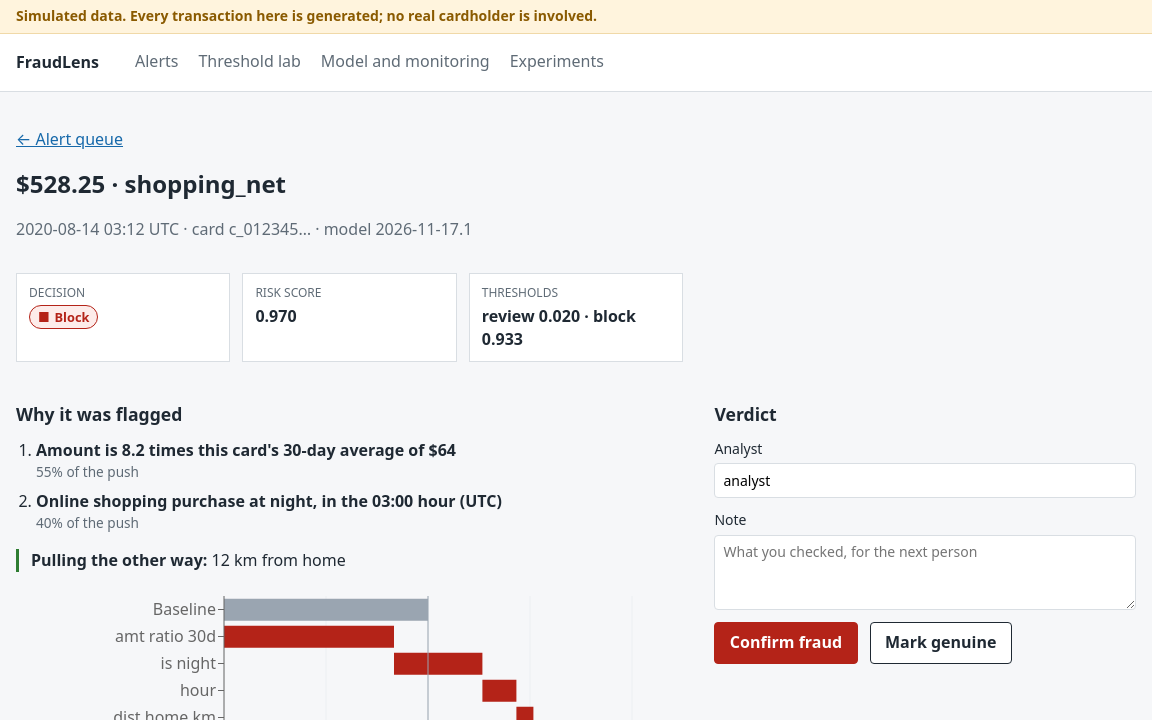
case view › posts a disposition and confirms it
This screenshot has width=1152, height=720.
Replace the text in the field labelled "Analyst" with "maria" at [925, 481], box [714,463,1136,498]
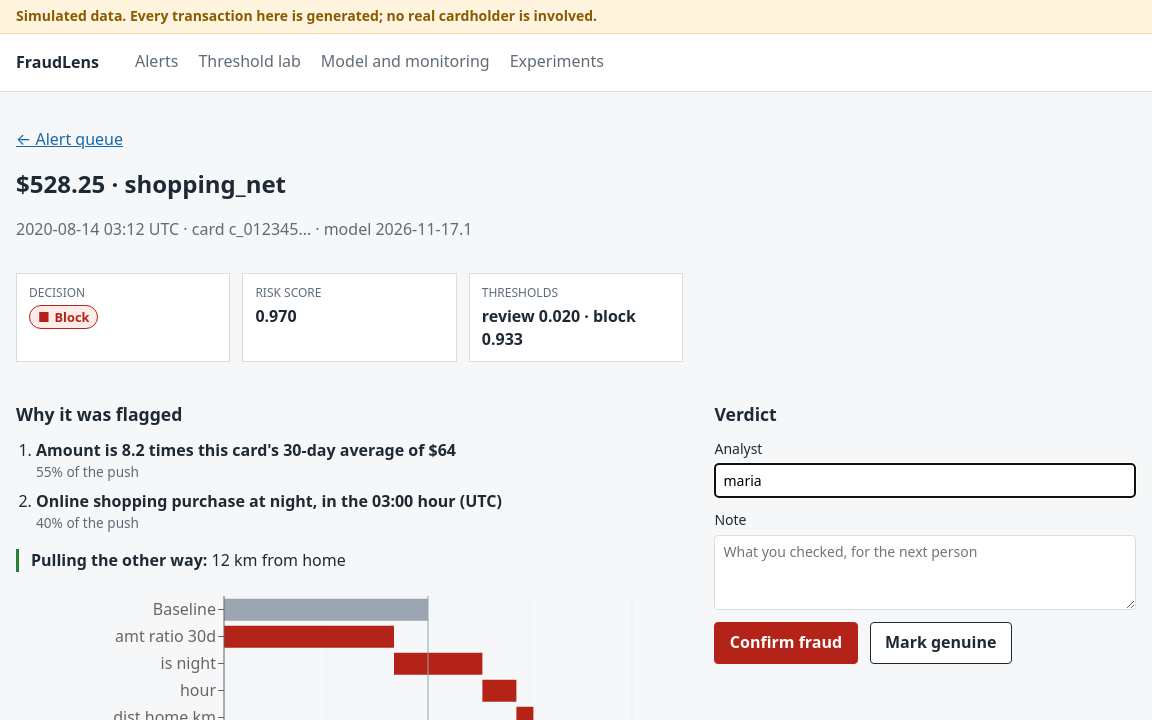
Type "called the cardholder" into the text box labelled "Note" at [925, 573], box [714,535,1136,610]
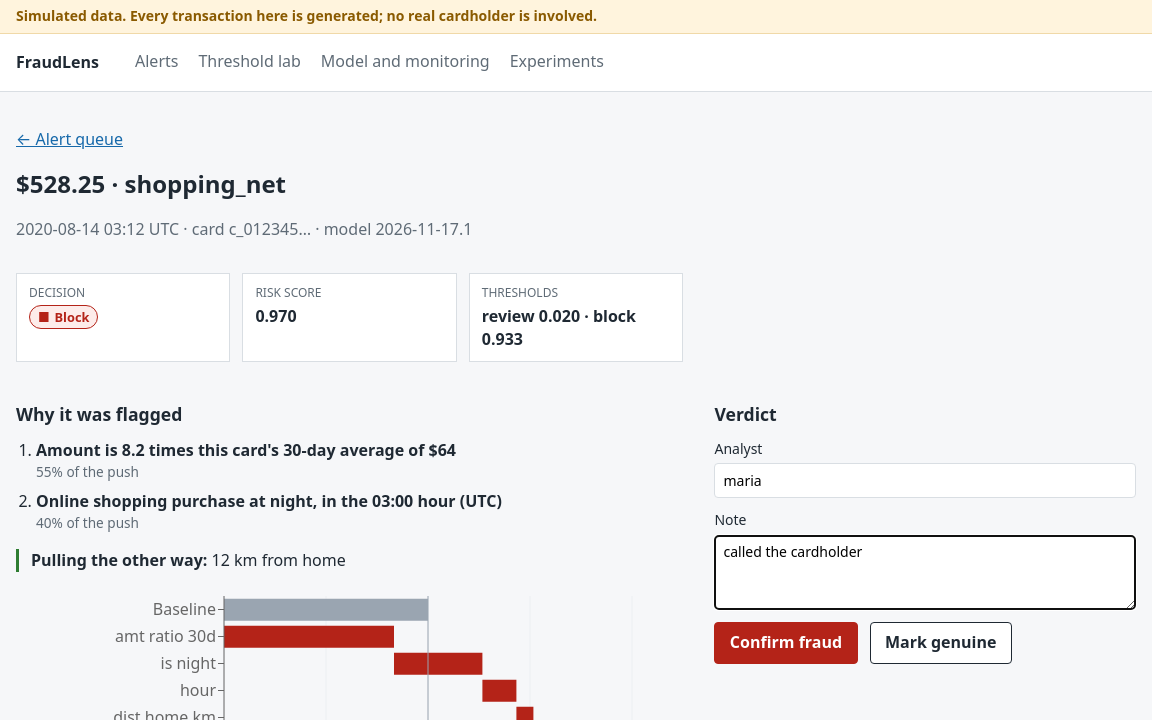
Click the button "Confirm fraud" at [786, 643], box [714,622,858,664]
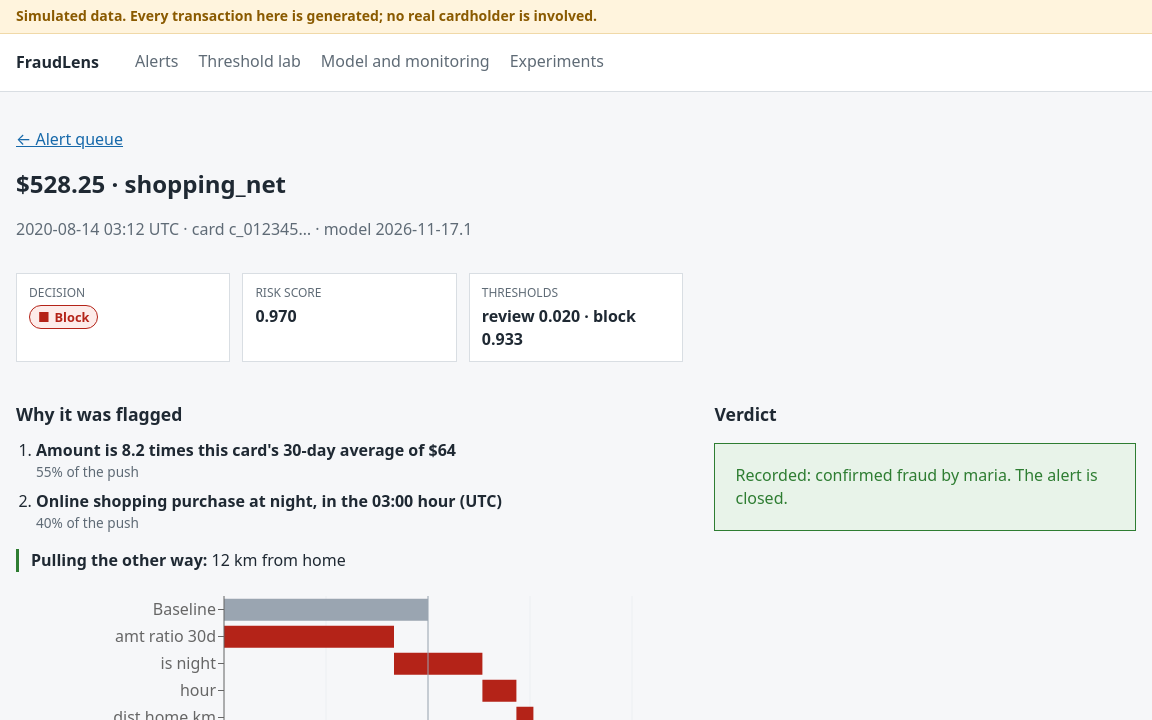
Check: the text "Recorded: confirmed fraud by maria. The alert is closed." is shown, box [714,443,1136,532]
